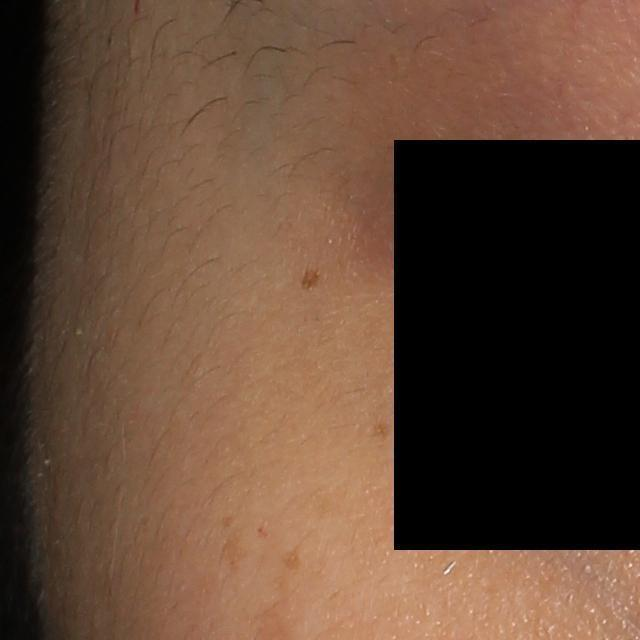melasma: (214, 522, 252, 573), (279, 542, 307, 571), (219, 513, 237, 528)
